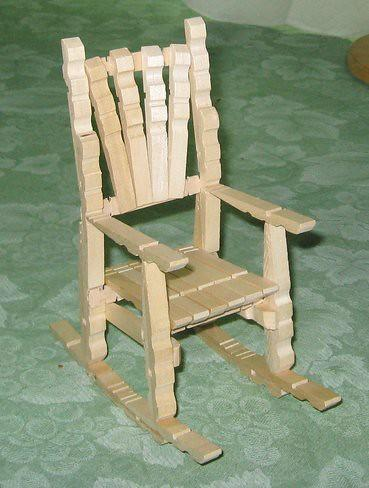chair: (50, 16, 343, 466)
